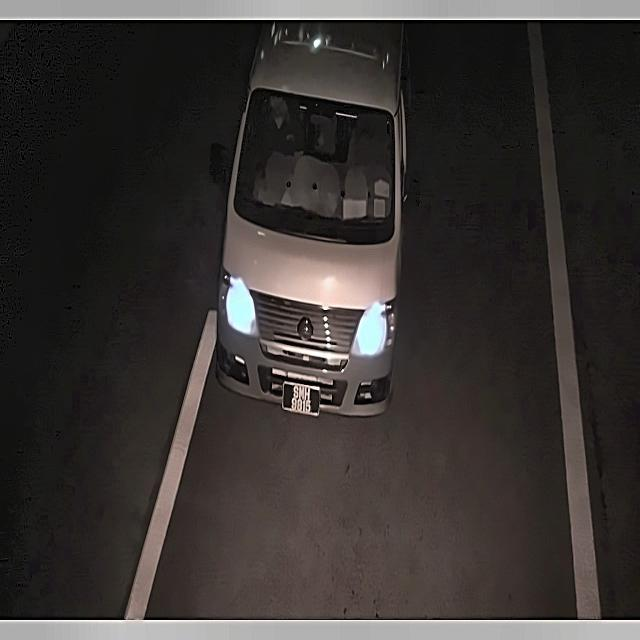car: (278, 377, 324, 422)
